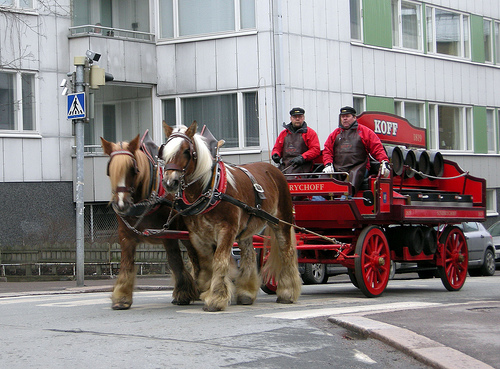horse: (155, 121, 302, 311), (99, 129, 202, 310)
